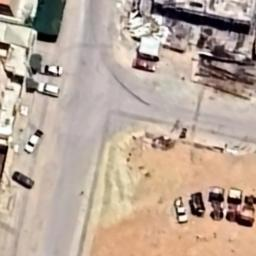SUV: (34, 80, 62, 99)
others: (238, 192, 256, 230), (208, 184, 225, 224), (188, 192, 208, 220), (226, 187, 240, 224)
pickup: (24, 126, 44, 156), (172, 194, 190, 226)
sedan: (8, 168, 36, 192), (131, 56, 158, 74), (36, 63, 65, 78)
